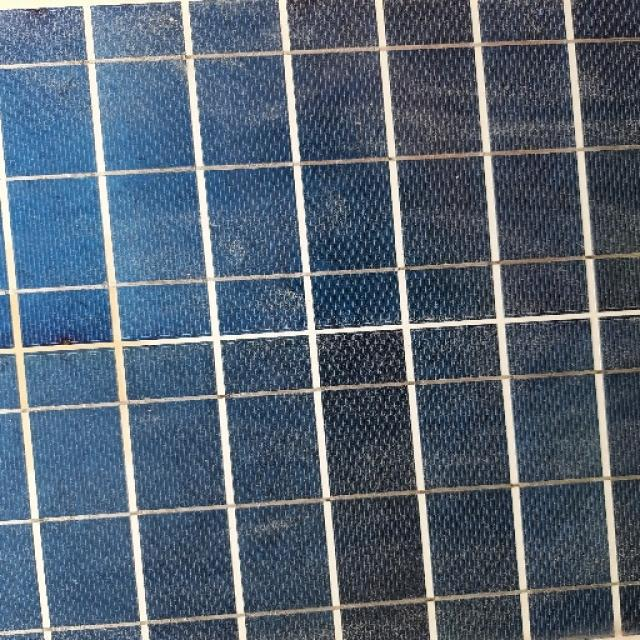Dirty: (0, 0, 625, 511)
